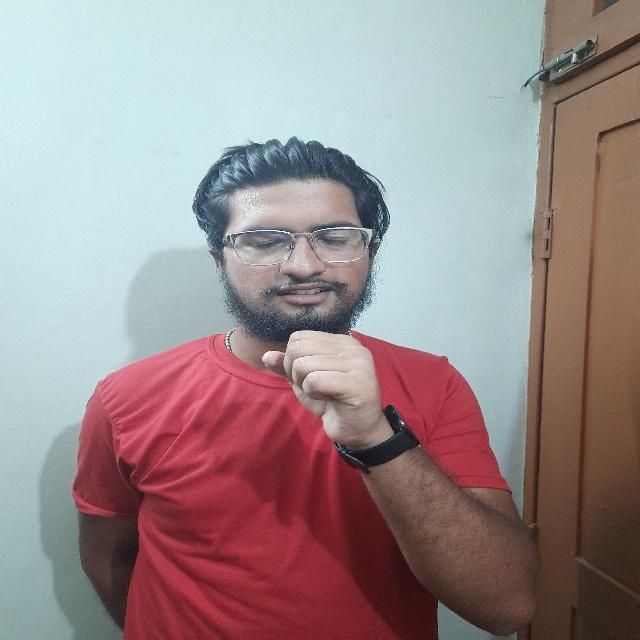Fist Mouth: (192, 134, 416, 458)
